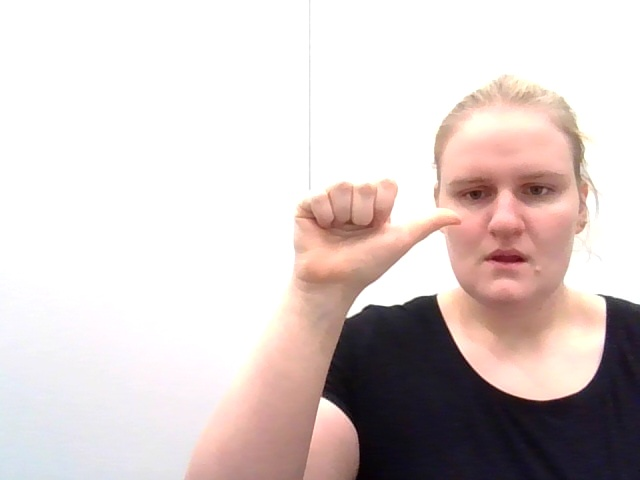left: (253, 171, 481, 314)
